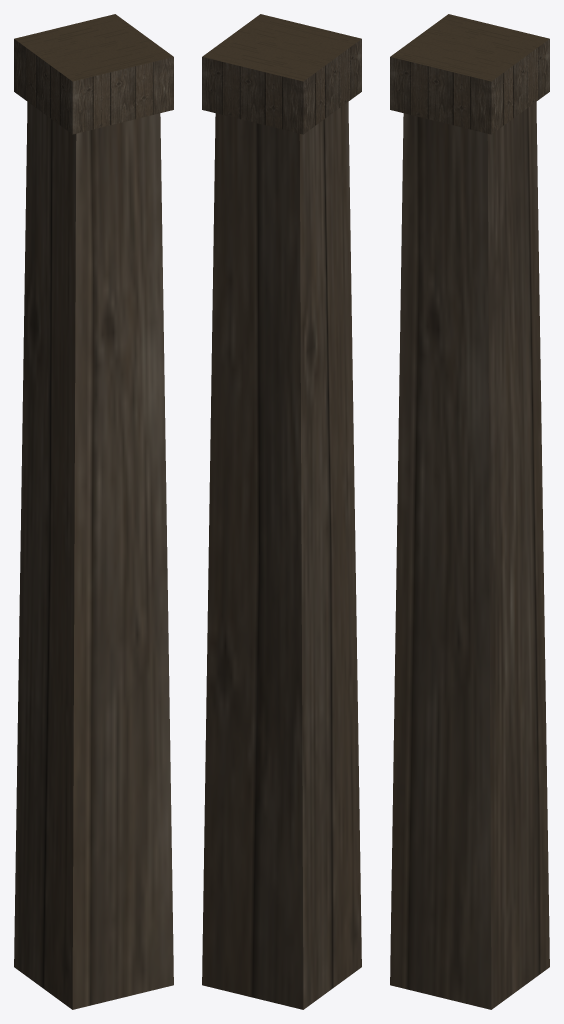
The model's file is fence_post.glb.
3 renders of one model, left to right at view 1: azimuth 30°, elevation 25°; view 2: azimuth 150°, elevation 25°; view 3: azimuth 330°, elevation 25°, orthographic.
Visible parts, largest first — view 1: outdoor_fence_post; view 2: outdoor_fence_post; view 3: outdoor_fence_post.
Part boxes in pixels (x1,y1,x2,y2): outdoor_fence_post: [14, 14, 173, 1009]; outdoor_fence_post: [202, 14, 361, 1009]; outdoor_fence_post: [390, 14, 549, 1009].
Bounding box in the file's own units: 0.12 × 1.05 × 0.12.
Materials: 1 (1 with a texture image).
